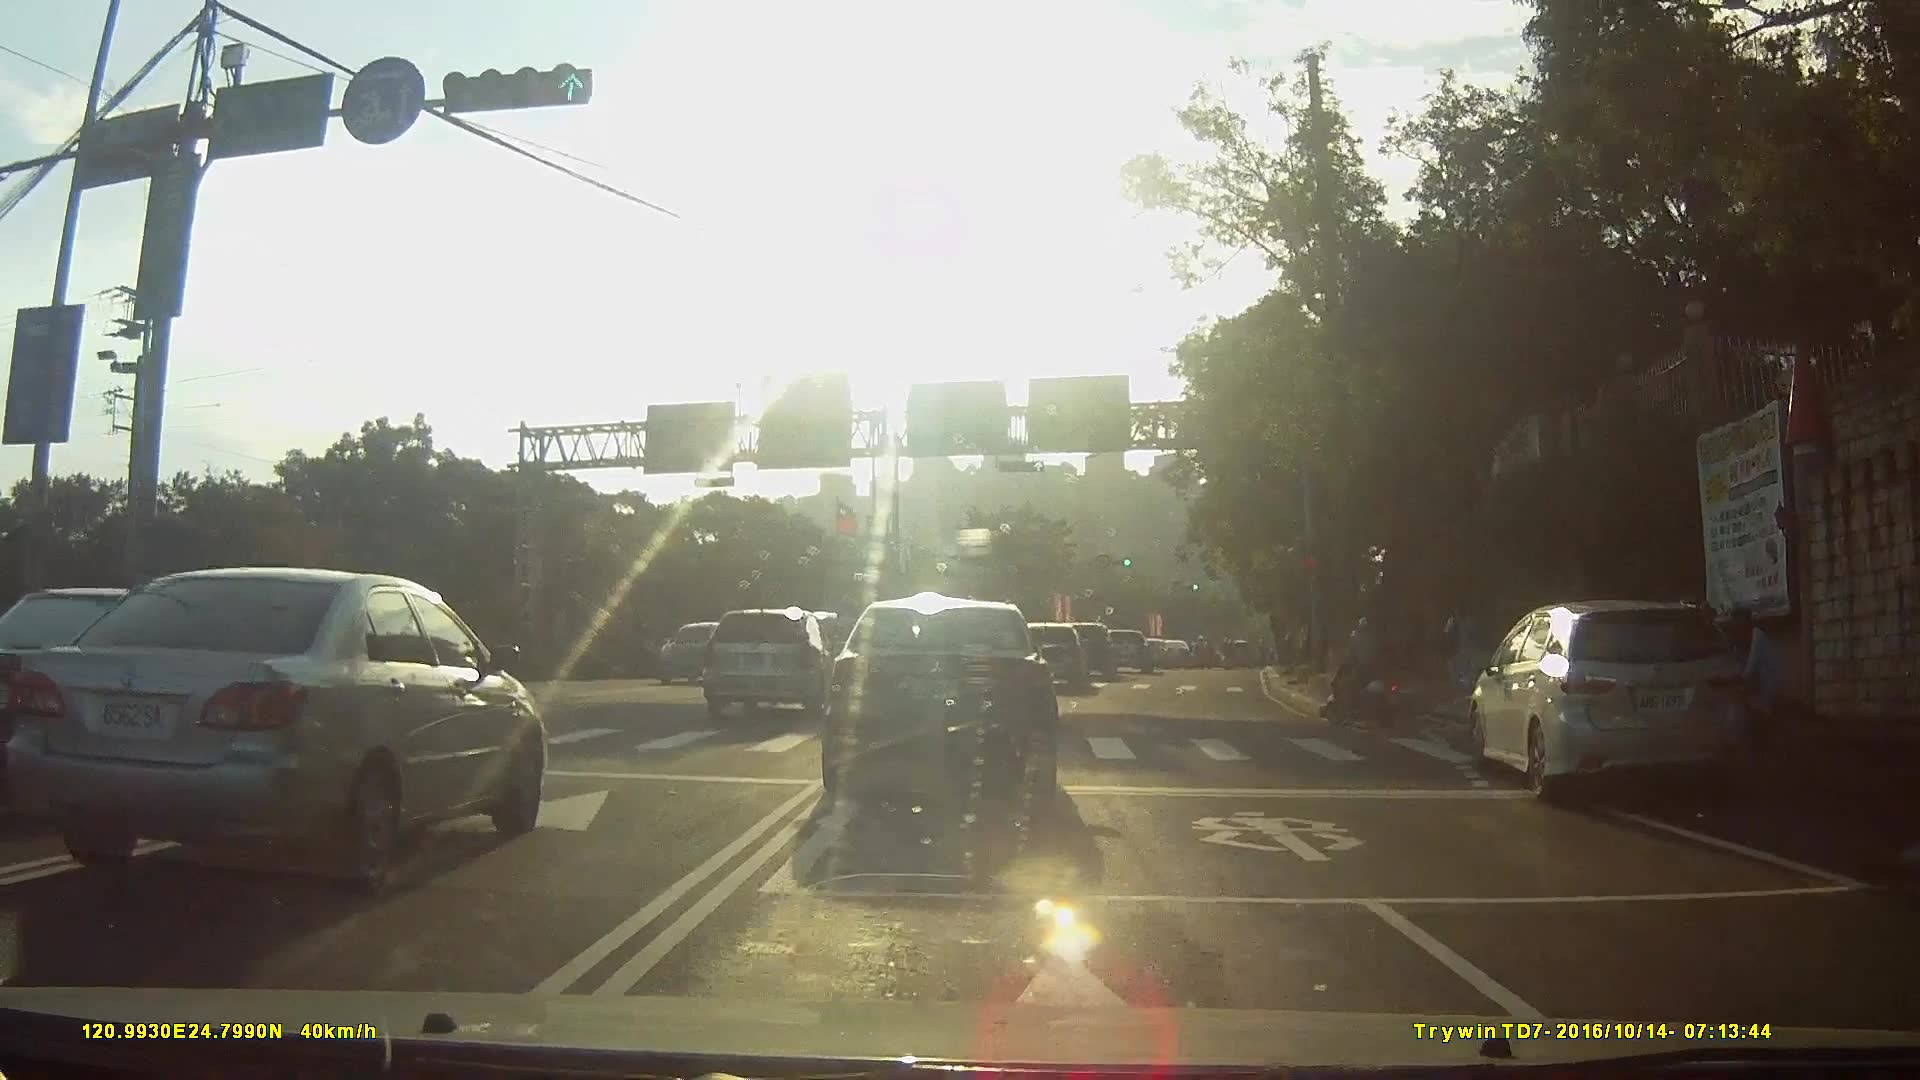pedestrian: (1730, 605, 1789, 732), (1439, 595, 1488, 701)
rider: (1322, 613, 1414, 729)
vehicle: (18, 565, 561, 886), (1455, 598, 1771, 818), (1, 572, 259, 830), (810, 597, 1078, 816), (711, 607, 857, 719), (655, 620, 744, 690), (1028, 622, 1102, 692), (1064, 622, 1126, 680), (1108, 631, 1164, 677), (1170, 641, 1203, 669)
